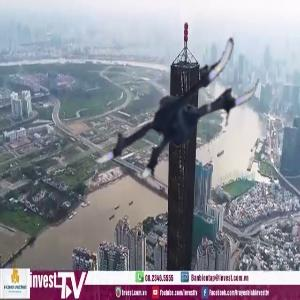drone: (80, 13, 261, 194)
